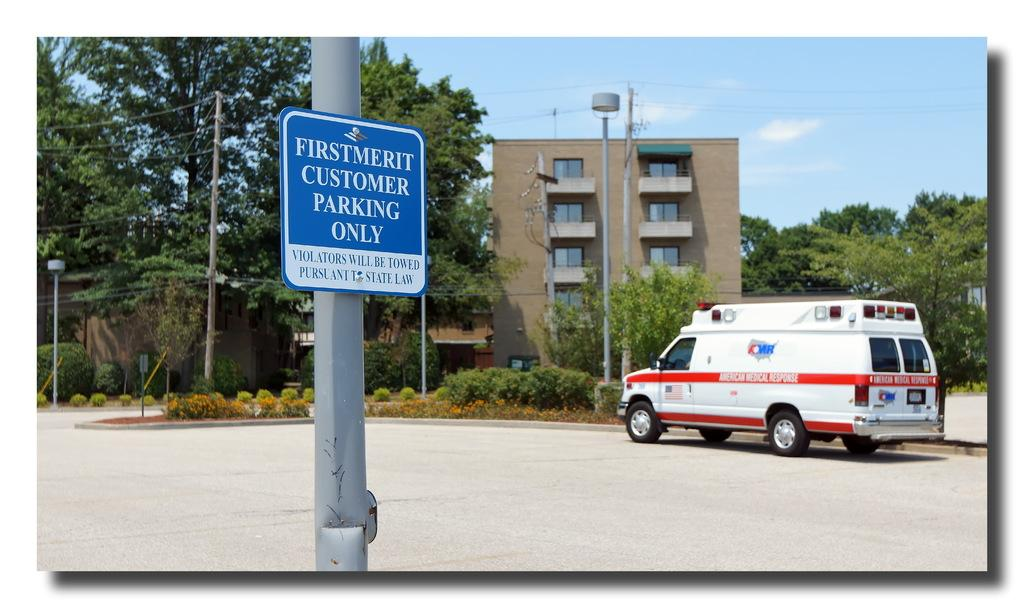Ambulance: (615, 298, 943, 456)
